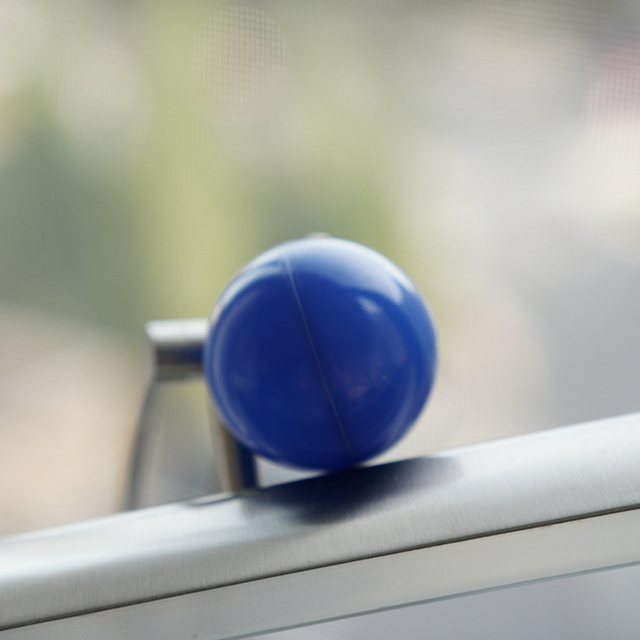Ball: (202, 240, 442, 473)
